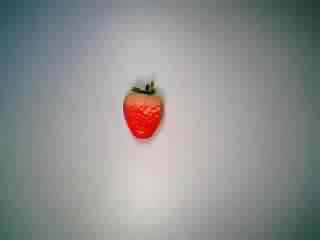strawberry: (107, 80, 175, 144)
